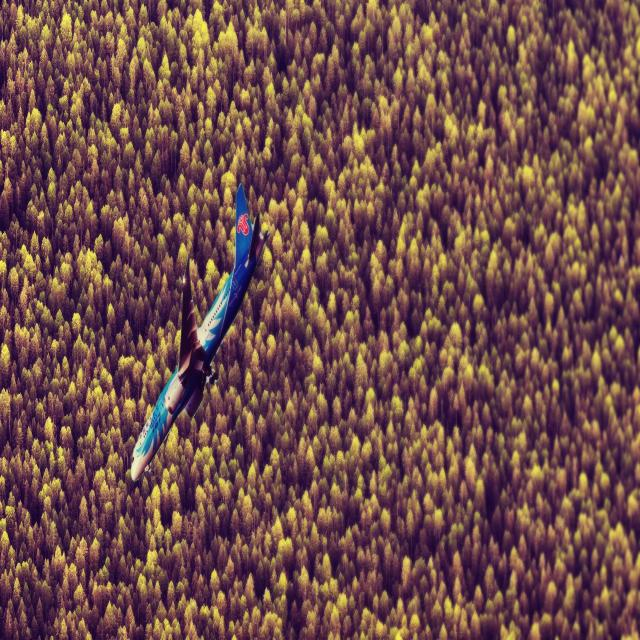airplane: (129, 182, 270, 482)
